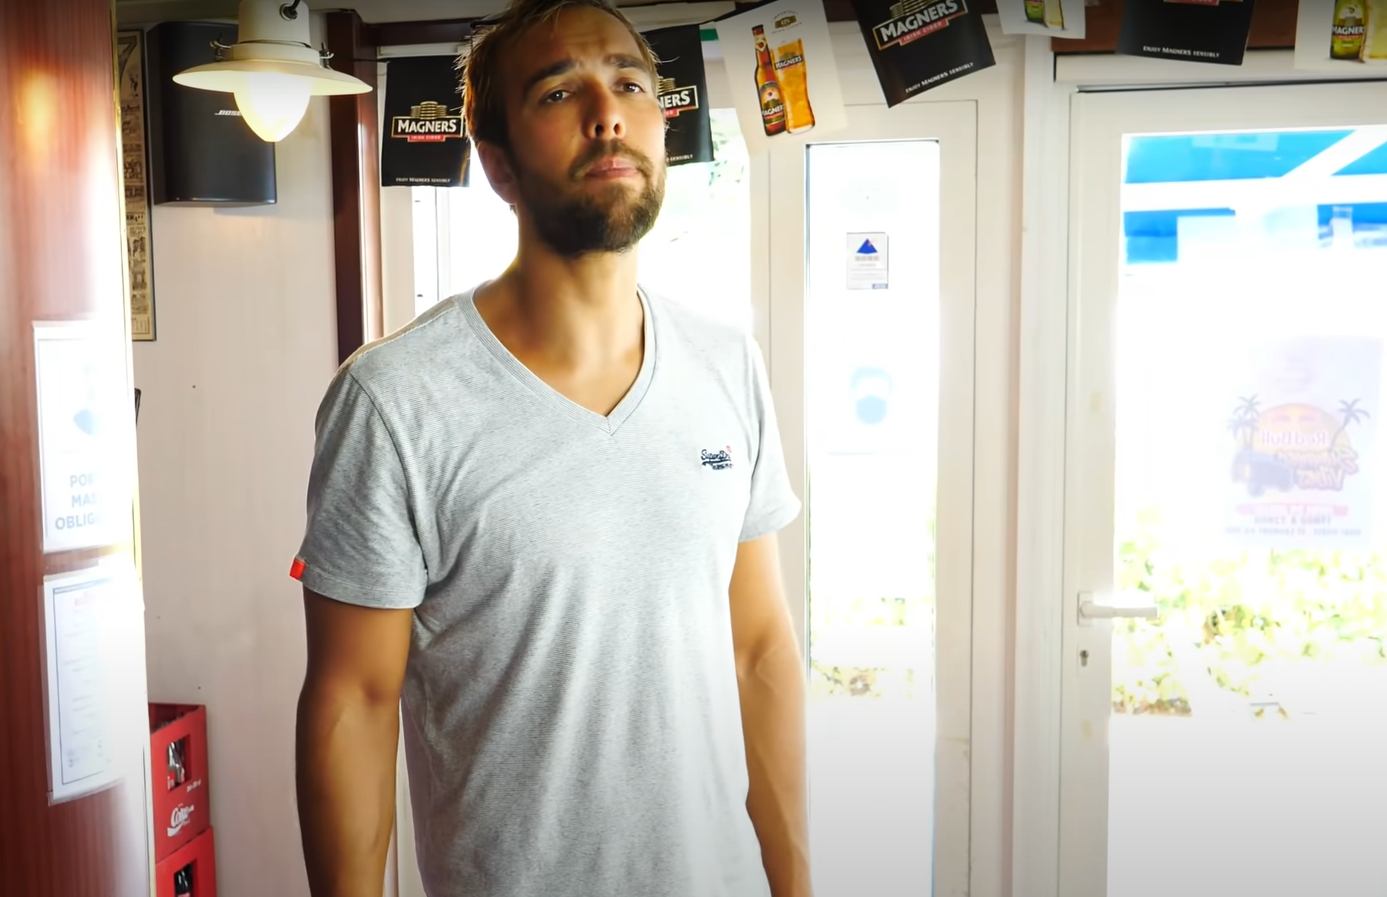without_mask: (521, 51, 649, 244)
